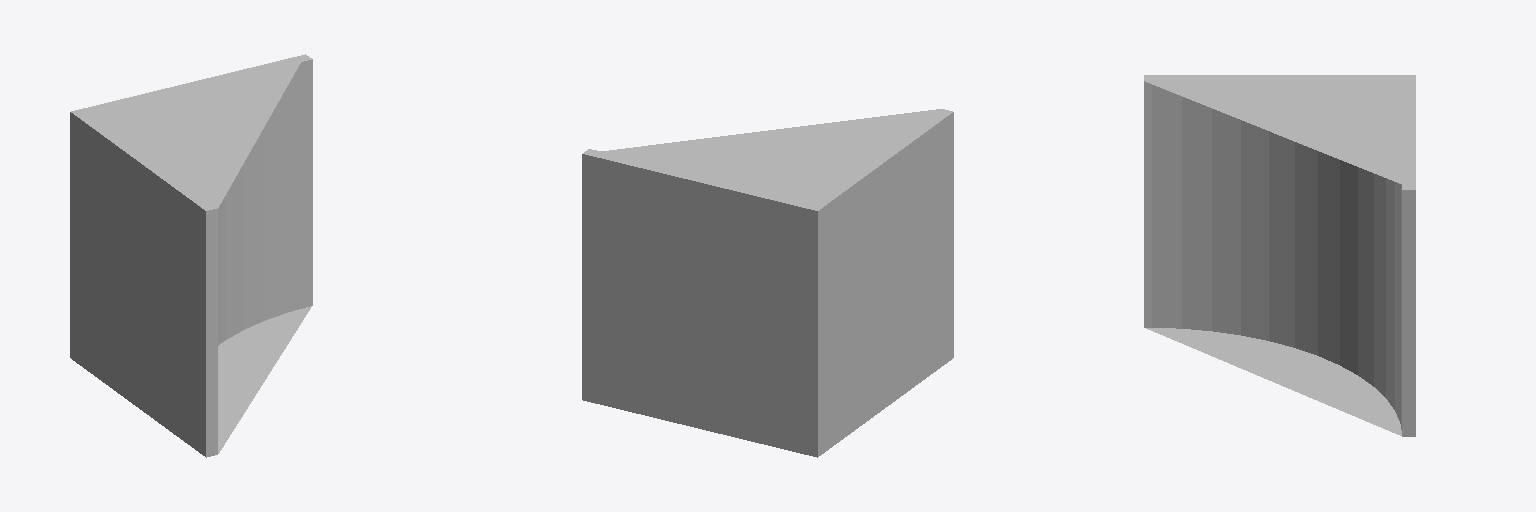
Rendered from Concave.obj.
The picture shows the model from 3 angles: view 1: azimuth 30°, elevation 25°; view 2: azimuth 150°, elevation 25°; view 3: azimuth 270°, elevation 25°; orthographic projection.
Parts seen in each view (by area): view 1: ConcaveCurve_4m_Block; view 2: ConcaveCurve_4m_Block; view 3: ConcaveCurve_4m_Block.
Part boxes in pixels (left/top/right/bottom): ConcaveCurve_4m_Block: left=70, top=54, right=312, bottom=457; ConcaveCurve_4m_Block: left=582, top=109, right=953, bottom=457; ConcaveCurve_4m_Block: left=1144, top=75, right=1415, bottom=436.
Bounding box in the file's own units: 1 × 1 × 1.